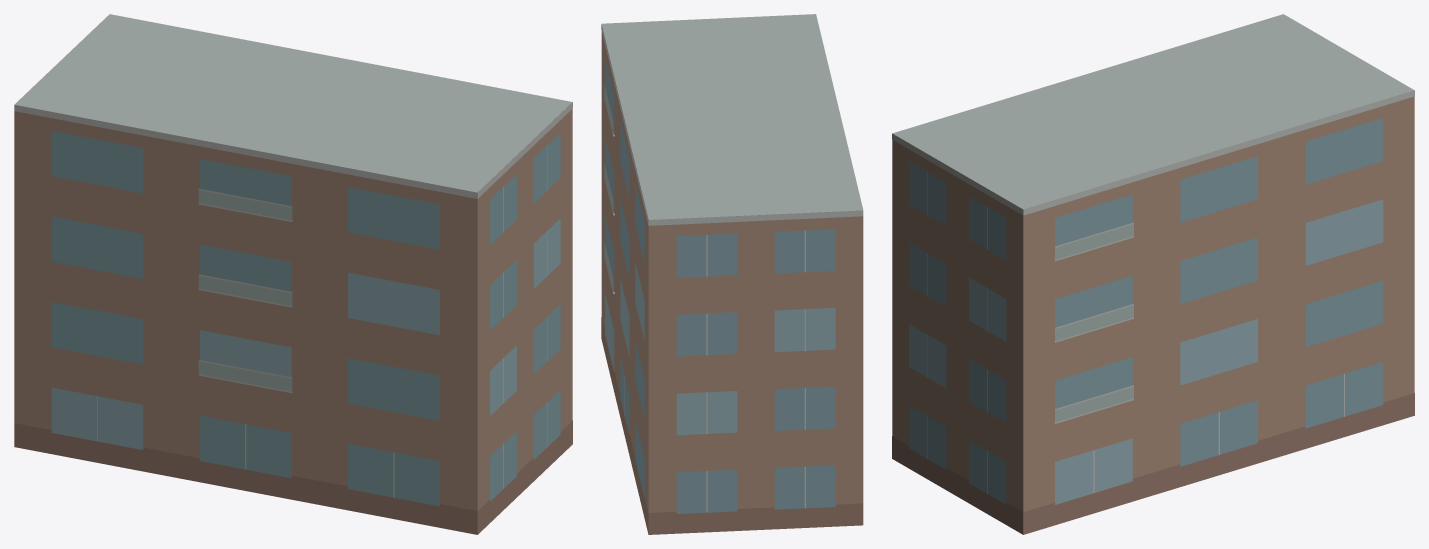
The model's file is survey-upis-32913088.glb.
3 renders of one model, left to right at view 1: azimuth 30°, elevation 25°; view 2: azimuth 150°, elevation 25°; view 3: azimuth 270°, elevation 25°, orthographic. The views are drawn at different scales.
Parts seen in each view (by area): view 1: survey-upis-32913088.tmp; view 2: survey-upis-32913088.tmp; view 3: survey-upis-32913088.tmp.
Part boxes in pixels (bbox=[...]): survey-upis-32913088.tmp: bbox=[14, 14, 572, 534]; survey-upis-32913088.tmp: bbox=[601, 14, 863, 534]; survey-upis-32913088.tmp: bbox=[892, 14, 1414, 534].
Size of the model in its own units: 16.9 by 13.1 by 19.08.
